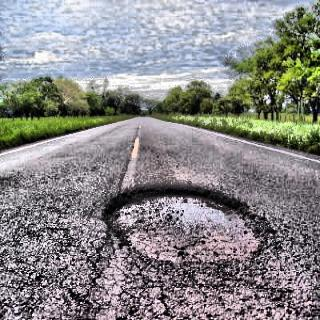alligator-crack: (9, 224, 320, 320)
pothole: (106, 178, 276, 280)
